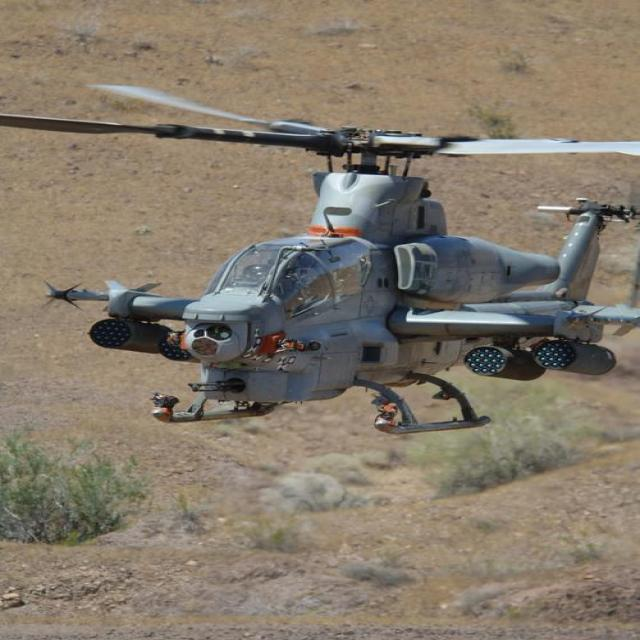MIL_HELO: (1, 83, 640, 472)
